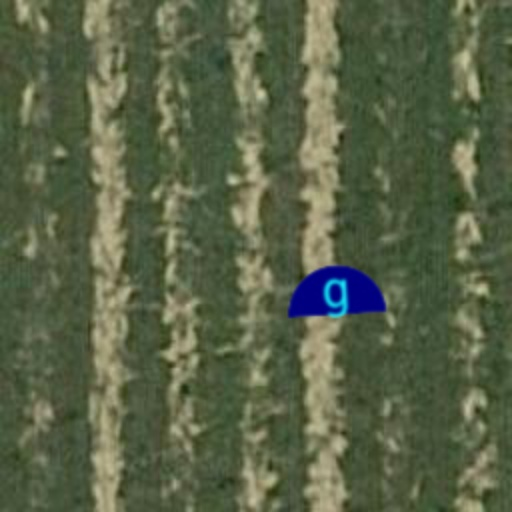semicircle: (282, 236, 390, 344)
